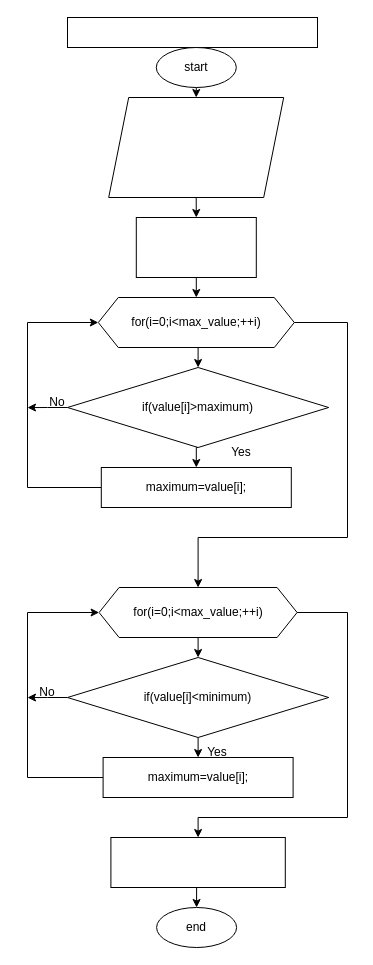
This 373x965 diagram has some shape labels left out. The centre of each missing label's shape, as x and y in pixels:
max_value =7; sum; value[max_value]; maximum; minimum;: [196,147]
maximum=a[0]; minimum=a[1];: [195,247]
minimum&maximum_in_array: [192,32]
print minimum; print maximum;: [197,862]
